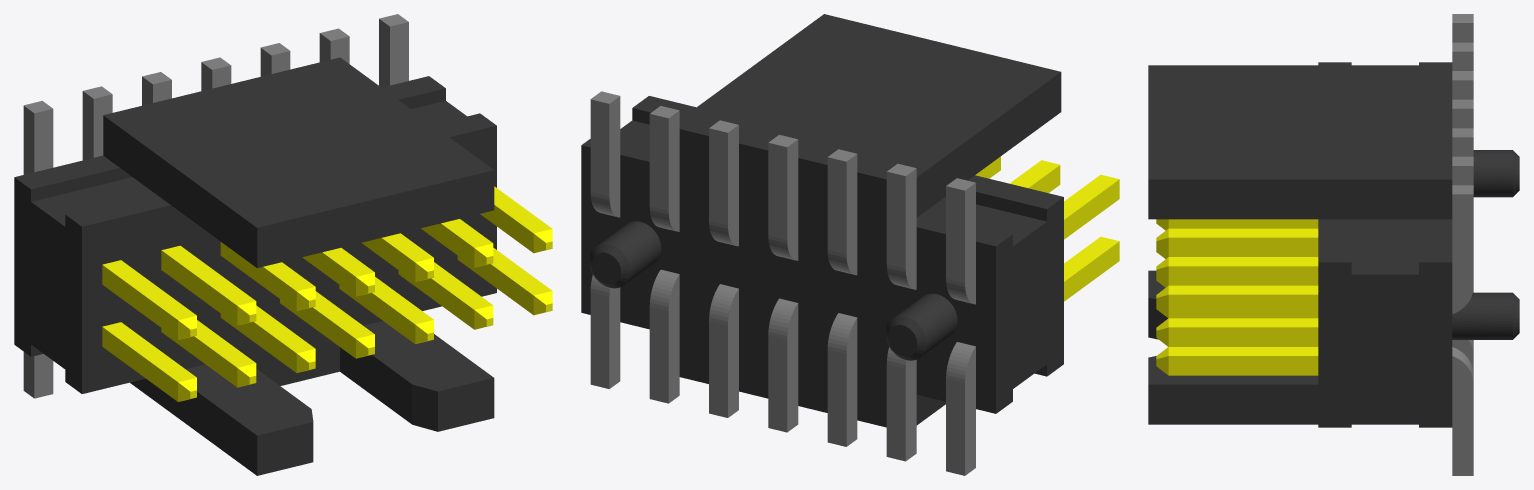
Rendered from triangulated.obj.
3 renders of one model, left to right at view 1: azimuth 30°, elevation 25°; view 2: azimuth 150°, elevation 25°; view 3: azimuth 270°, elevation 25°, orthographic.
Bounding box in the file's own units: 8.89 × 5.84 × 6.99.
